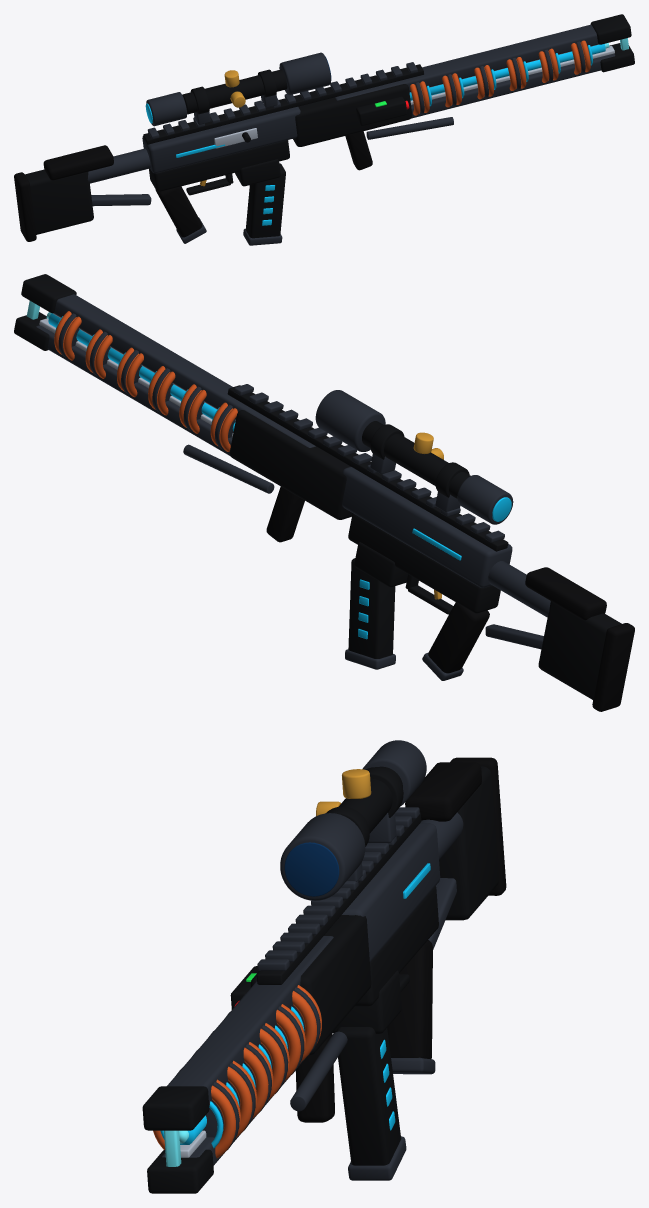
File: hero_railgun.obj
The picture shows the model from 3 angles, top to bottom: view 1: azimuth 30°, elevation 25°; view 2: azimuth 150°, elevation 25°; view 3: azimuth 270°, elevation 25°; orthographic projection. The views are drawn at different scales.
Parts seen in each view (by area): view 1: RG_UpperRec, RG_RailUpper, RG_Handguard, RG_StockBody, RG_LowerRec, RG_PicBase, RG_MagBody, RG_RailLower, RG_ScopeObjBell, RG_ScopeTube, RG_CheekRest, RG_Grip (+16 smaller); view 2: RG_UpperRec, RG_Handguard, RG_RailUpper, RG_StockBody, RG_LowerRec, RG_MagBody, RG_PicBase, RG_ScopeObjBell, RG_Grip, RG_Buttpad, RG_CheekRest, RG_ScopeTube (+10 smaller); view 3: RG_MagBody, RG_RailUpper, RG_UpperRec, RG_Handguard, RG_StockBody, RG_Grip, RG_ScopeObjBell, RG_LowerRec, RG_CheekRest, RG_MuzzleTop, RG_ScopeFrontLens, RG_MuzzleBot (+20 smaller).
Boxes of the visible parts, box(x1,y1,x2,y2) form: RG_UpperRec: box(142, 106, 300, 173); RG_RailUpper: box(335, 24, 598, 100); RG_Handguard: box(293, 84, 412, 146); RG_StockBody: box(25, 169, 93, 234); RG_LowerRec: box(149, 140, 289, 191); RG_PicBase: box(143, 64, 423, 144); RG_MagBody: box(245, 163, 285, 238); RG_RailLower: box(411, 53, 615, 118); RG_ScopeObjBell: box(279, 52, 330, 95); RG_ScopeTube: box(182, 69, 287, 114); RG_CheekRest: box(43, 145, 113, 180); RG_Grip: box(155, 186, 202, 237); RG_UpperRec: box(342, 467, 512, 587); RG_Handguard: box(229, 410, 352, 519); RG_RailUpper: box(53, 294, 315, 447); RG_StockBody: box(538, 601, 621, 699); RG_LowerRec: box(348, 513, 500, 613); RG_MagBody: box(348, 558, 395, 658); RG_PicBase: box(227, 385, 508, 551); RG_ScopeObjBell: box(315, 390, 385, 451); RG_Grip: box(428, 602, 489, 673); RG_Buttpad: box(592, 623, 634, 711); RG_CheekRest: box(525, 567, 606, 620); RG_ScopeTube: box(362, 421, 470, 498); RG_MagBody: box(336, 1027, 401, 1165); RG_RailUpper: box(167, 936, 333, 1105); RG_UpperRec: box(342, 823, 440, 961); RG_Handguard: box(250, 915, 371, 1055); RG_StockBody: box(439, 766, 498, 920); RG_Grip: box(387, 940, 432, 1059); RG_ScopeObjBell: box(280, 813, 365, 900); RG_LowerRec: box(355, 886, 438, 1006); RG_CheekRest: box(405, 762, 481, 821); RG_MuzzleTop: box(142, 1086, 209, 1130); RG_ScopeFrontLens: box(284, 842, 339, 896); RG_MuzzleBot: box(147, 1149, 213, 1193).
Size of the model in its own units: 1.34 by 0.4416 by 0.3872.
